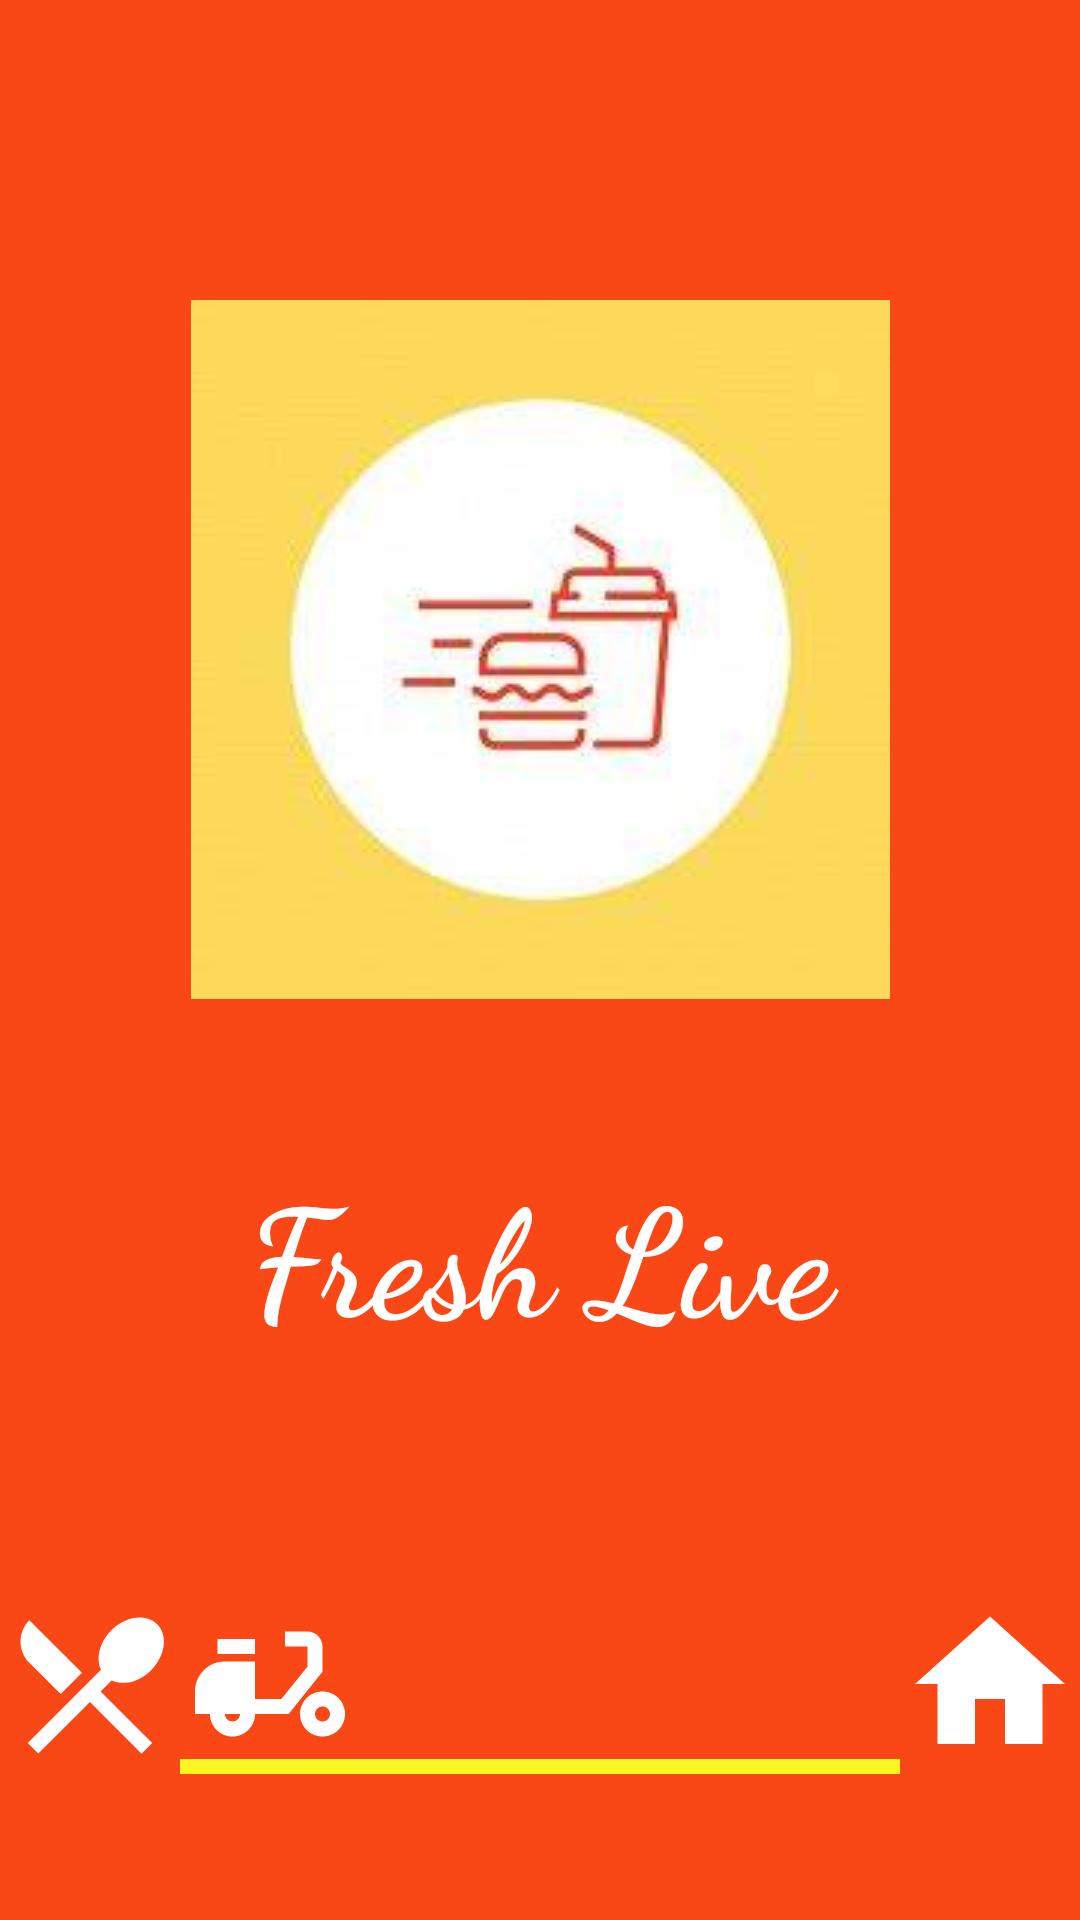

Point at icon controls on the screen. Image size 1080x1920, points as (x=x, y=y).
delivery dining: (x=270, y=1684)
home: (x=990, y=1680)
restaurant menu: (x=92, y=1685)
